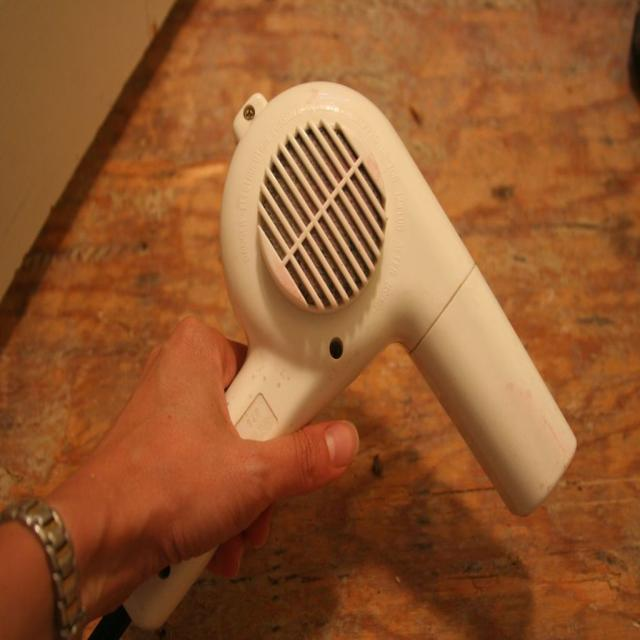dryer: (193, 61, 596, 559)
